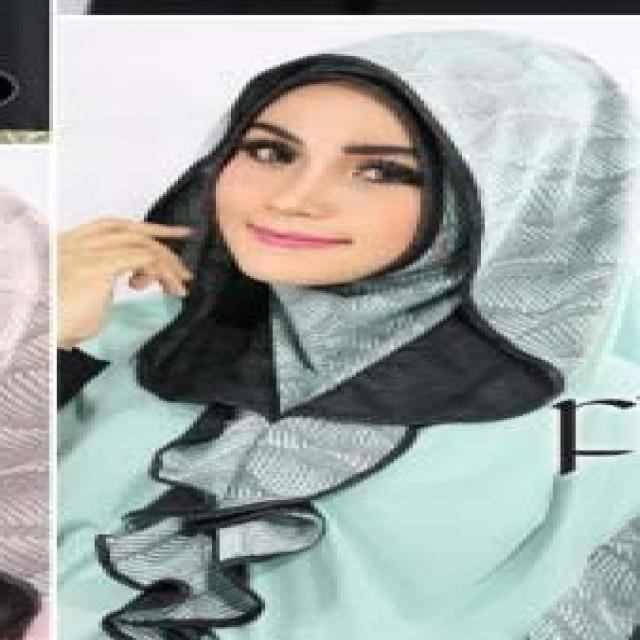head: (212, 23, 633, 296)
